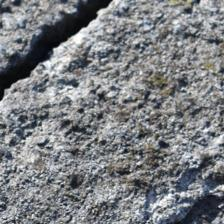Crack: (2, 2, 103, 89)
